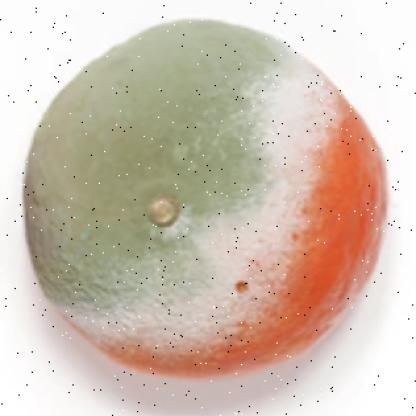rotten: (24, 20, 385, 375)
